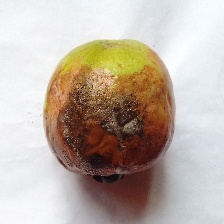guava: (26, 25, 221, 160)
